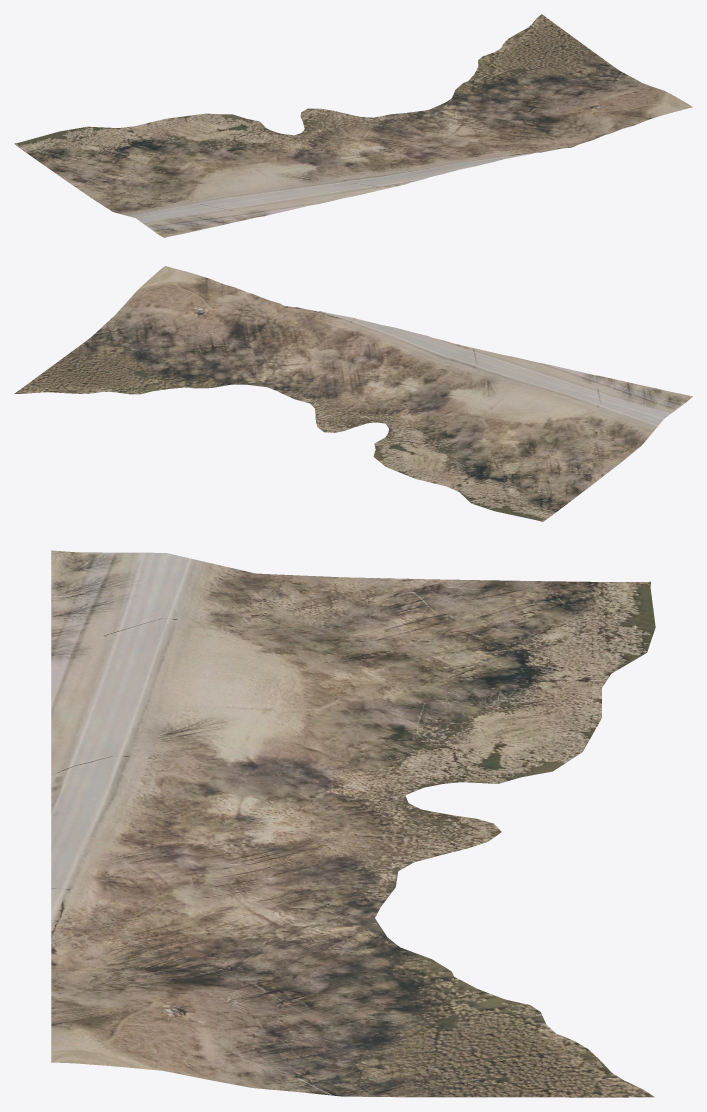
File: CM_Terrain_24490254_6818975.fbx
3 renders of one model, top to bottom at view 1: azimuth 30°, elevation 25°; view 2: azimuth 150°, elevation 25°; view 3: azimuth 270°, elevation 25°, orthographic. The views are drawn at different scales.
Parts seen in each view (by area): view 1: CM_Terrain_24490254_6818975_LOD0; view 2: CM_Terrain_24490254_6818975_LOD0; view 3: CM_Terrain_24490254_6818975_LOD0.
Boxes of the visible parts, box(x1,y1,x2,y2) form: CM_Terrain_24490254_6818975_LOD0: box(14, 14, 692, 237); CM_Terrain_24490254_6818975_LOD0: box(14, 266, 692, 521); CM_Terrain_24490254_6818975_LOD0: box(51, 550, 655, 1097).
Size of what is drawn, in the model's own units: 205 by 6.58 by 102.
